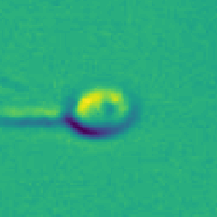normal: (1, 97, 67, 131)
